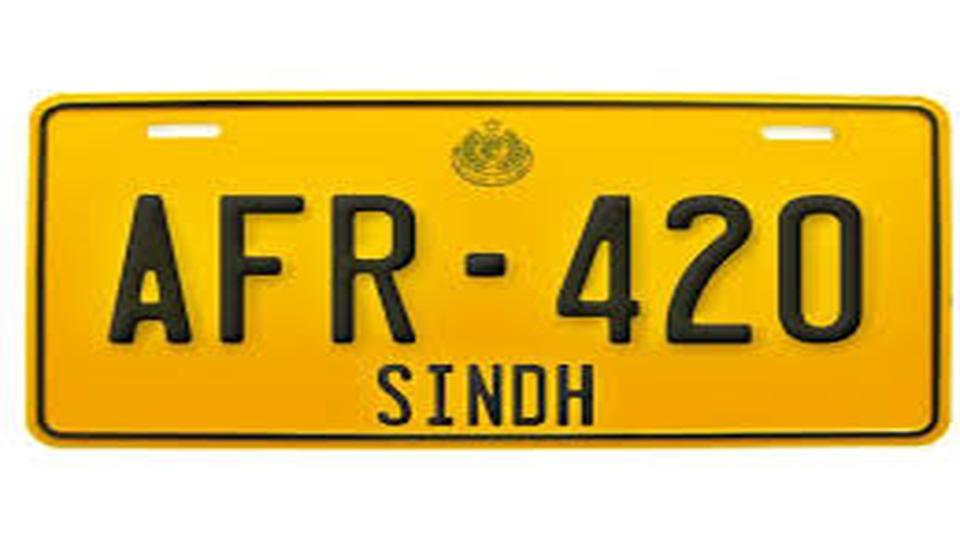NumberPlate: (38, 82, 952, 448)
